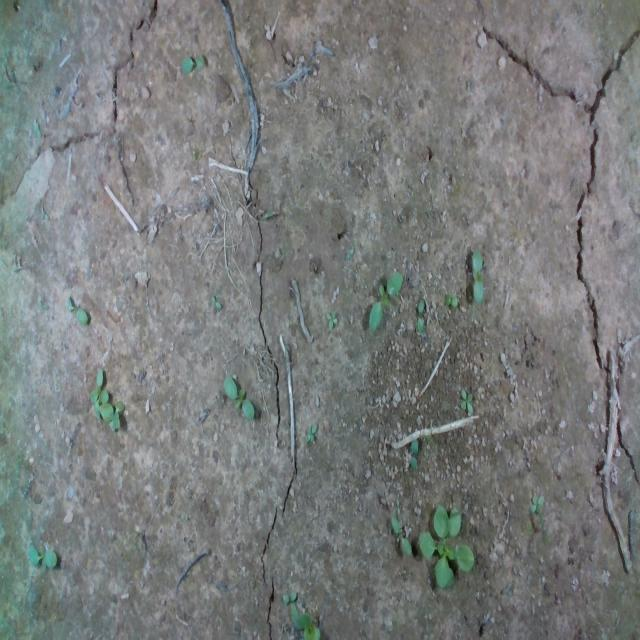weed: (368, 270, 402, 334), (221, 372, 257, 422), (27, 535, 59, 573), (64, 294, 92, 326), (390, 516, 412, 556), (470, 249, 484, 303), (458, 383, 474, 425), (178, 52, 206, 74), (415, 300, 429, 338), (445, 287, 467, 310), (322, 308, 340, 336), (528, 488, 544, 518), (304, 422, 316, 448), (210, 290, 219, 306)
